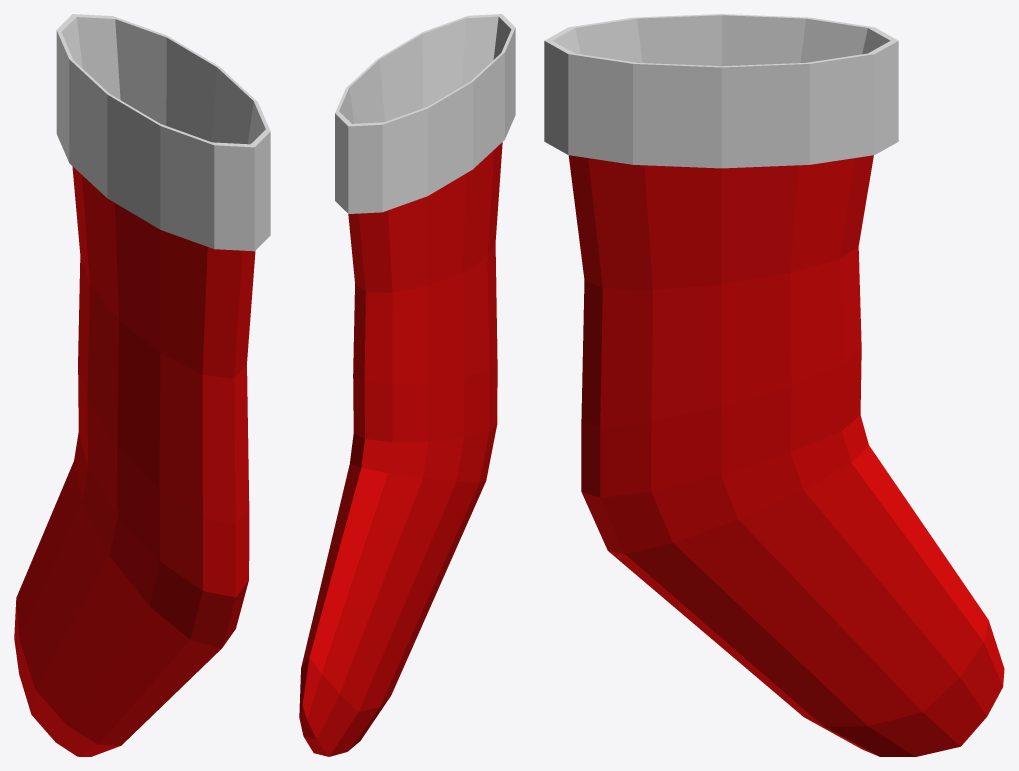
The model's file is ChristmasSock.fbx.
3 views of the same model, side by side, from view 1: azimuth 30°, elevation 25°; view 2: azimuth 150°, elevation 25°; view 3: azimuth 270°, elevation 25° (orthographic). The views are drawn at different scales.
Visible parts, largest first — view 1: ChristmasSock; view 2: ChristmasSock; view 3: ChristmasSock.
Boxes of the visible parts, x1,y1,x2,y2 form: ChristmasSock: (14, 14, 270, 756); ChristmasSock: (299, 14, 515, 756); ChristmasSock: (544, 14, 1004, 756).
Bounding box in the file's own units: 18.84 × 117 × 68.52.
